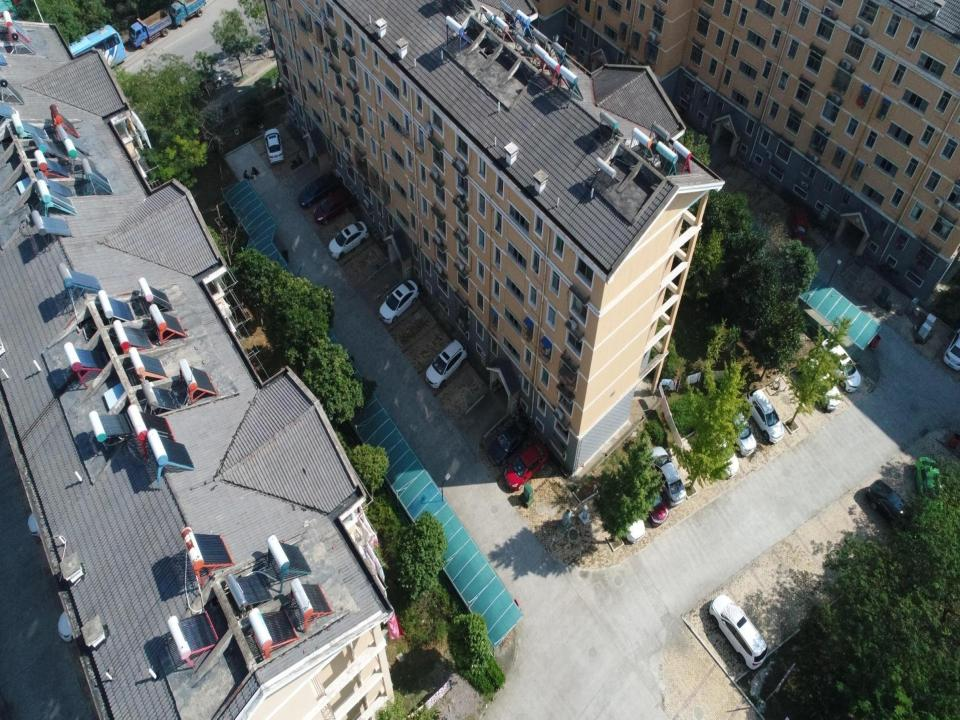bus: (43, 25, 127, 84)
car: (866, 479, 916, 536), (646, 446, 686, 507), (503, 441, 550, 492), (743, 389, 785, 444), (821, 337, 862, 392), (802, 357, 842, 412), (425, 338, 468, 388), (702, 424, 740, 478), (488, 418, 530, 466), (379, 278, 420, 324), (57, 606, 109, 642), (611, 488, 645, 542), (914, 456, 944, 514), (328, 220, 370, 260), (636, 476, 668, 526), (312, 186, 354, 224), (298, 172, 340, 208), (727, 406, 757, 456), (27, 511, 63, 538), (188, 72, 222, 100), (787, 202, 810, 241), (942, 329, 960, 371), (264, 128, 285, 164)
truck: (129, 8, 173, 48), (169, 0, 206, 27)
van: (709, 594, 768, 670)
